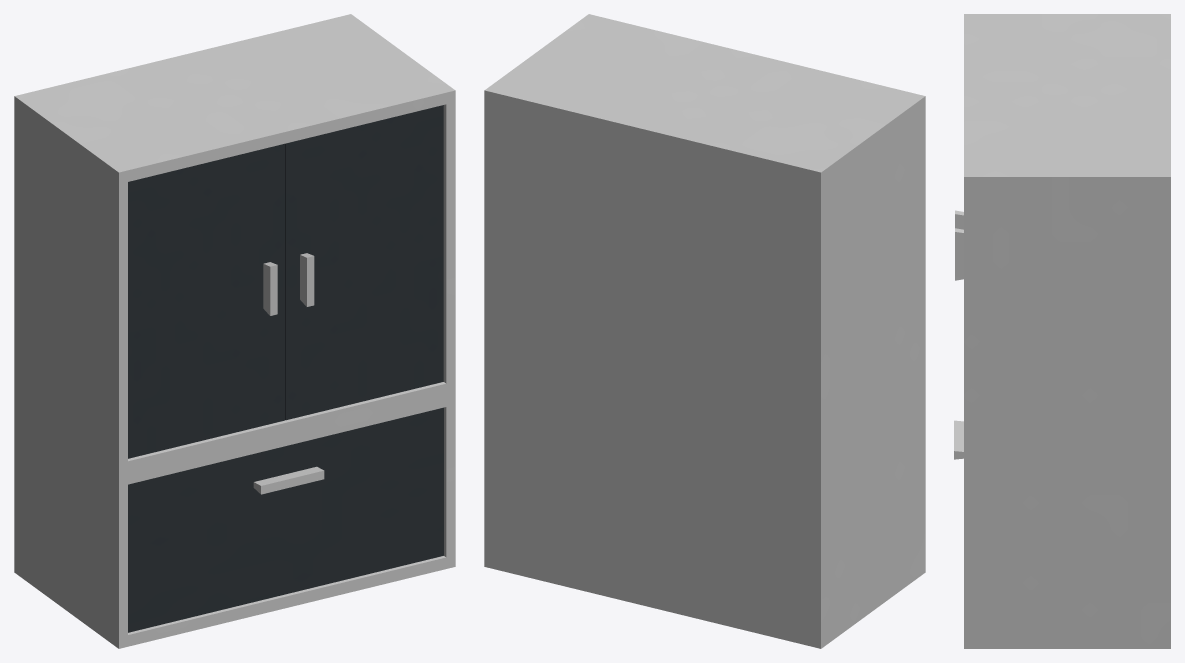
Rendered from Closet_02_02.fbx.
3 renders of one model, left to right at view 1: azimuth 30°, elevation 25°; view 2: azimuth 150°, elevation 25°; view 3: azimuth 270°, elevation 25°, orthographic.
Visible parts, largest first — view 1: Closet_02_02, Closet_02_Door_Bottom, Closet_Door_Upper_L, Closet_02_Door_Upper_R; view 2: Closet_02_02; view 3: Closet_02_02, Closet_Door_Upper_L, Closet_02_Door_Bottom.
Boxes of the visible parts, x1=… form: Closet_02_02: x1=14, y1=14, x2=455, y2=648; Closet_02_Door_Bottom: x1=128, y1=407, x2=443, y2=632; Closet_Door_Upper_L: x1=285, y1=105, x2=443, y2=420; Closet_02_Door_Upper_R: x1=128, y1=143, x2=284, y2=458; Closet_02_02: x1=484, y1=14, x2=925, y2=648; Closet_02_02: x1=964, y1=14, x2=1170, y2=648; Closet_Door_Upper_L: x1=955, y1=228, x2=963, y2=280; Closet_02_Door_Bottom: x1=954, y1=420, x2=963, y2=459.
Size of the model in its own units: 1.44 by 1.94 by 0.8096.
